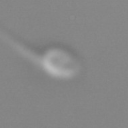normal: (1, 27, 41, 67)
